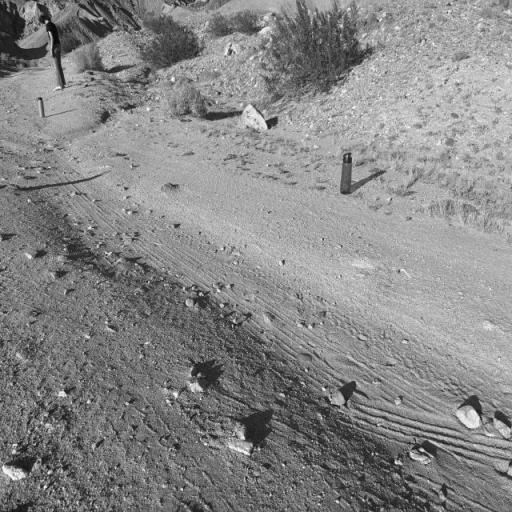bottle: (340, 150, 354, 195), (35, 92, 46, 122)
mallet: (146, 114, 168, 125)
